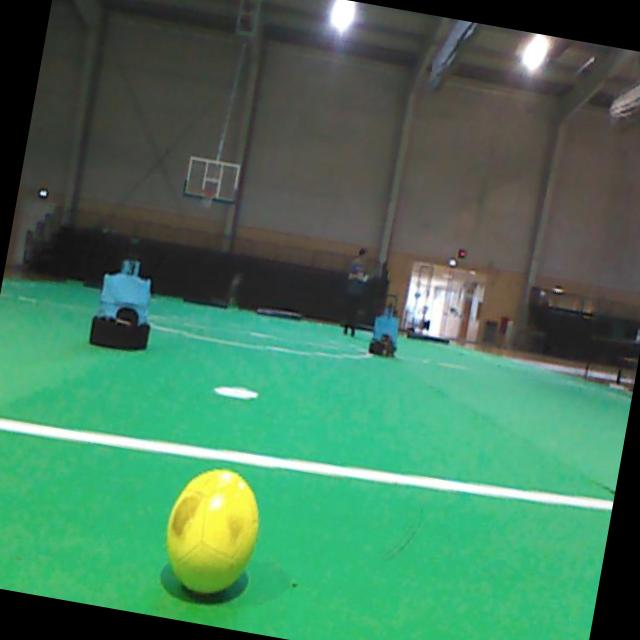ball: (166, 468, 258, 592)
